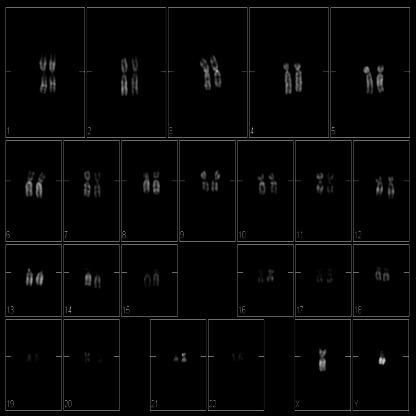1: (35, 45, 48, 97), (48, 44, 61, 96)
10: (266, 168, 282, 199), (252, 168, 266, 199)
11: (314, 166, 326, 202), (324, 167, 336, 203)
12: (372, 171, 386, 203), (384, 171, 398, 203)
13: (34, 263, 48, 290), (22, 264, 34, 291)
14: (83, 264, 94, 292), (93, 264, 104, 292)
15: (141, 264, 151, 292), (152, 264, 162, 292)
16: (265, 264, 276, 286), (256, 264, 266, 288)
17: (324, 266, 336, 288), (314, 266, 325, 288)
18: (382, 258, 392, 290), (373, 260, 382, 290)
19: (22, 346, 33, 366), (34, 346, 42, 367)
2: (118, 54, 130, 102), (129, 54, 141, 101)
20: (79, 346, 94, 368), (94, 345, 108, 367)
21: (170, 349, 180, 369), (180, 349, 190, 369)
22: (236, 346, 244, 368), (228, 346, 236, 368)
3: (196, 54, 212, 93), (211, 54, 226, 93)
4: (293, 58, 306, 100), (280, 58, 293, 99)
5: (374, 60, 389, 98), (360, 60, 374, 97)
6: (22, 167, 36, 200), (35, 166, 48, 200)
7: (94, 165, 106, 204), (82, 165, 94, 203)
8: (139, 164, 151, 200), (151, 164, 163, 200)
9: (210, 164, 223, 196), (198, 164, 210, 196)
X: (314, 342, 331, 377)
Y: (376, 344, 388, 374)
